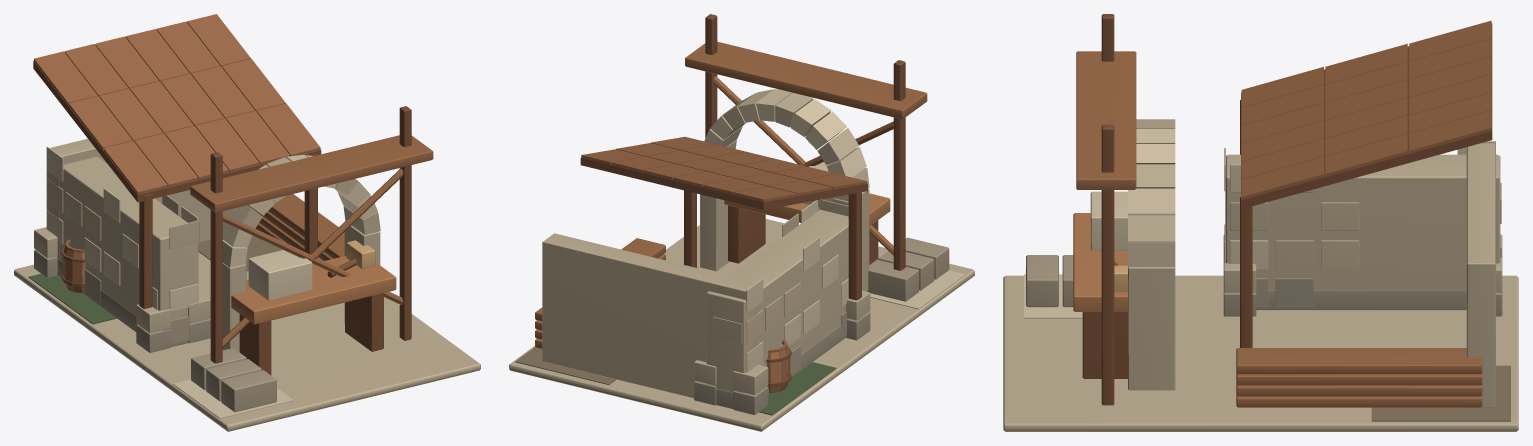
The model's file is maintenance.glb.
The picture shows the model from 3 angles, left to right: view 1: azimuth 30°, elevation 25°; view 2: azimuth 150°, elevation 25°; view 3: azimuth 270°, elevation 25°; orthographic projection. The views are drawn at different scales.
Parts seen in each view (by area): view 1: maintenance; view 2: maintenance; view 3: maintenance.
Boxes of the visible parts, x1,y1,x2,y2 form: maintenance: (14,14,480,431); maintenance: (509,14,974,431); maintenance: (1003,14,1518,431).
Bounding box in the file's own units: 1.94 × 1.74 × 2.83.
